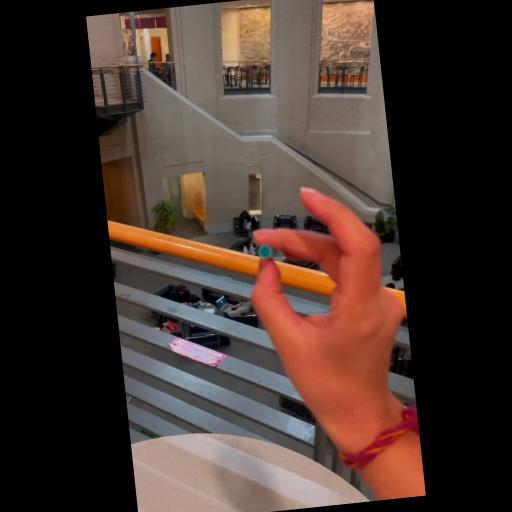straw: (256, 242, 274, 264)
